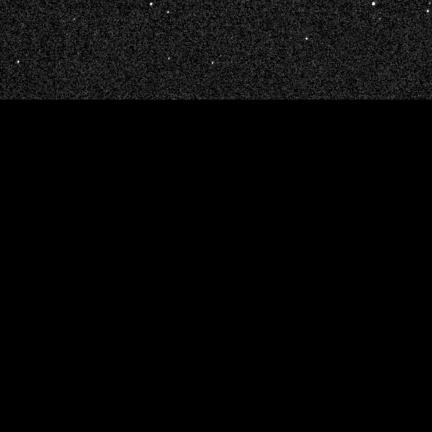blob: (372, 2, 375, 5), (17, 61, 20, 64), (168, 57, 171, 60), (167, 11, 170, 14), (427, 10, 430, 13), (212, 62, 214, 65), (306, 38, 308, 41), (150, 3, 153, 5)
